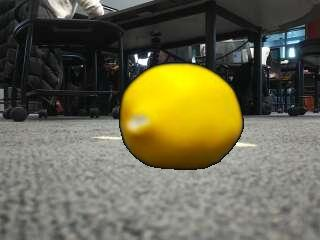lemon: (123, 64, 245, 170)
